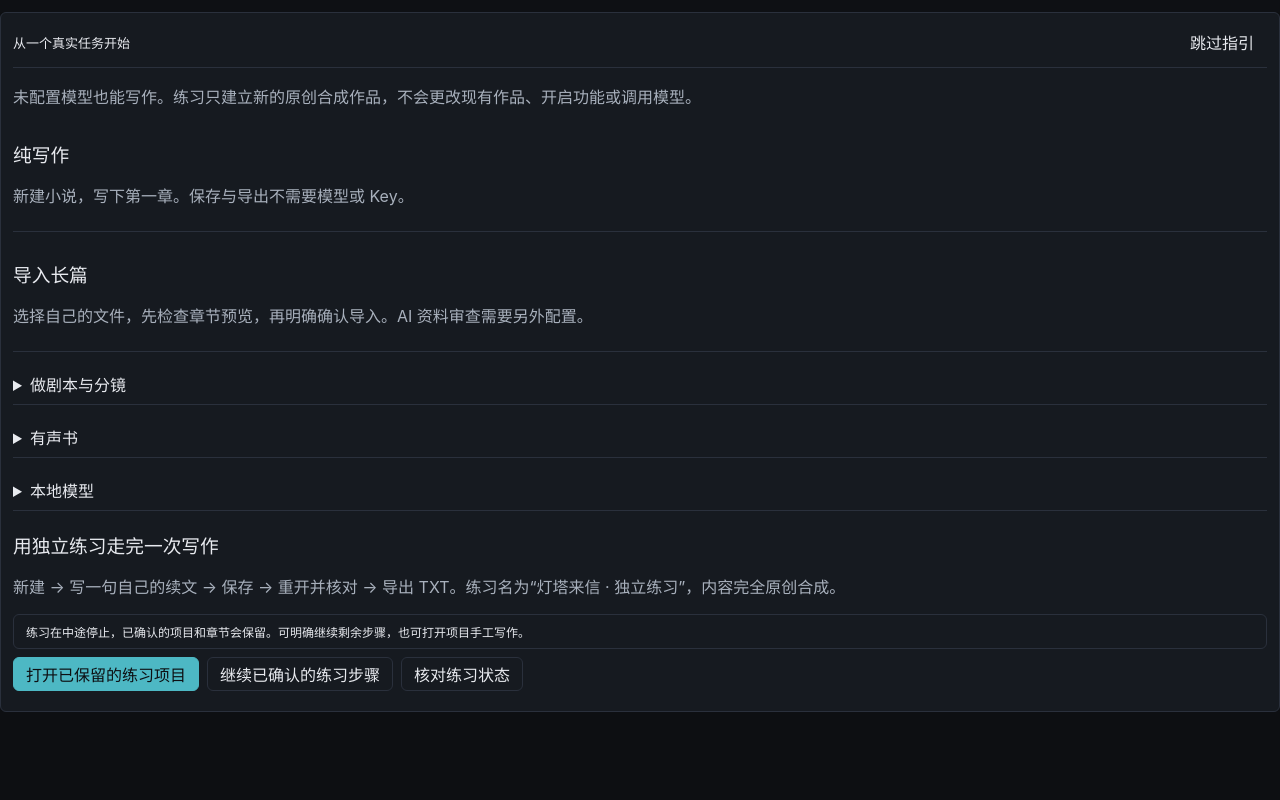
Test: FirstUsePanel › offers only explicit continuation and original-project open for a known partial state
Click the button "继续已确认的练习步骤" at point(300, 674), box [207,657,393,691]
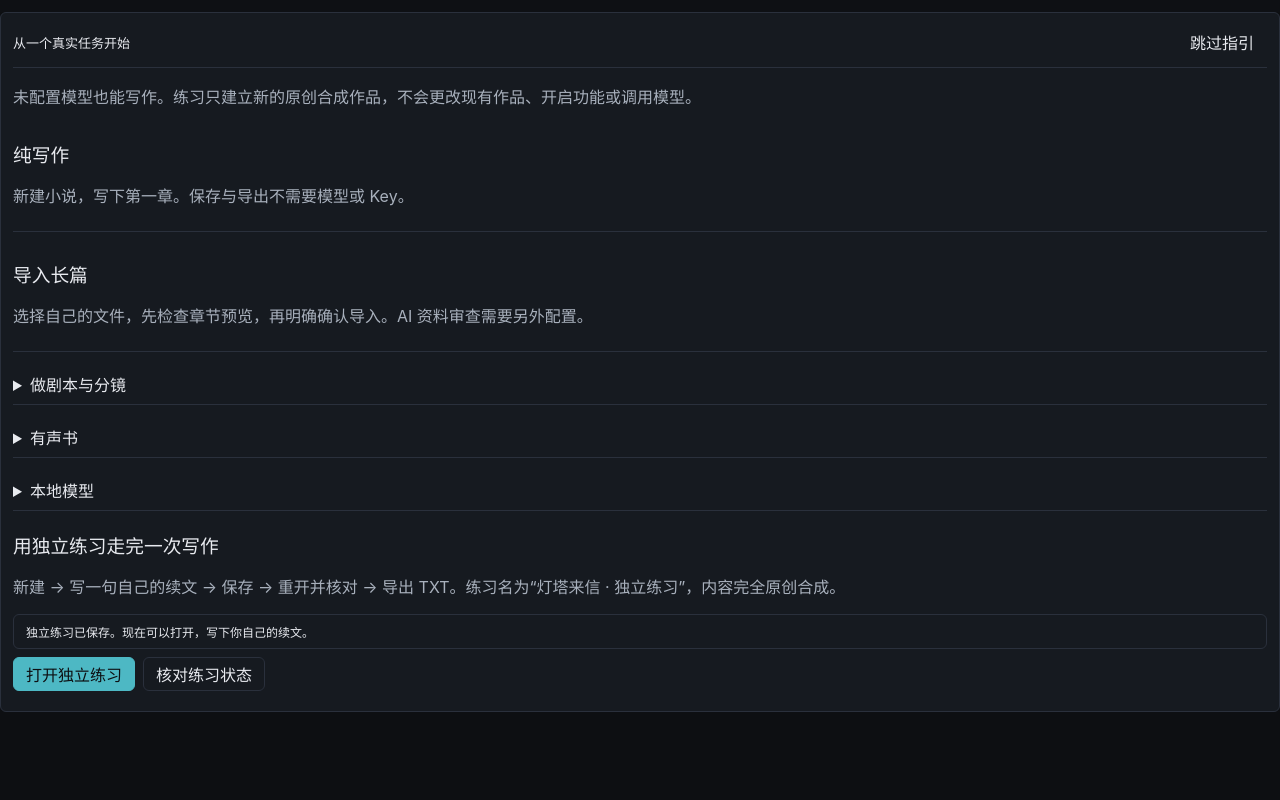
Check: the button "打开独立练习" is shown, box [13,657,135,691]
